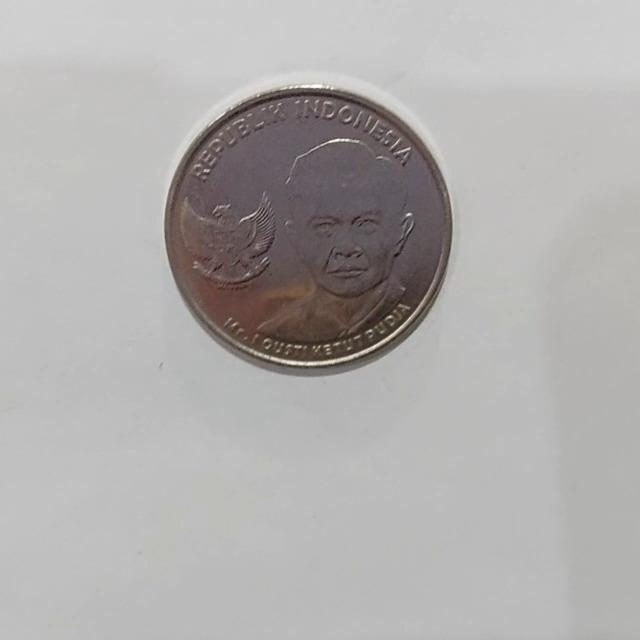Rp100: (162, 78, 454, 375)
